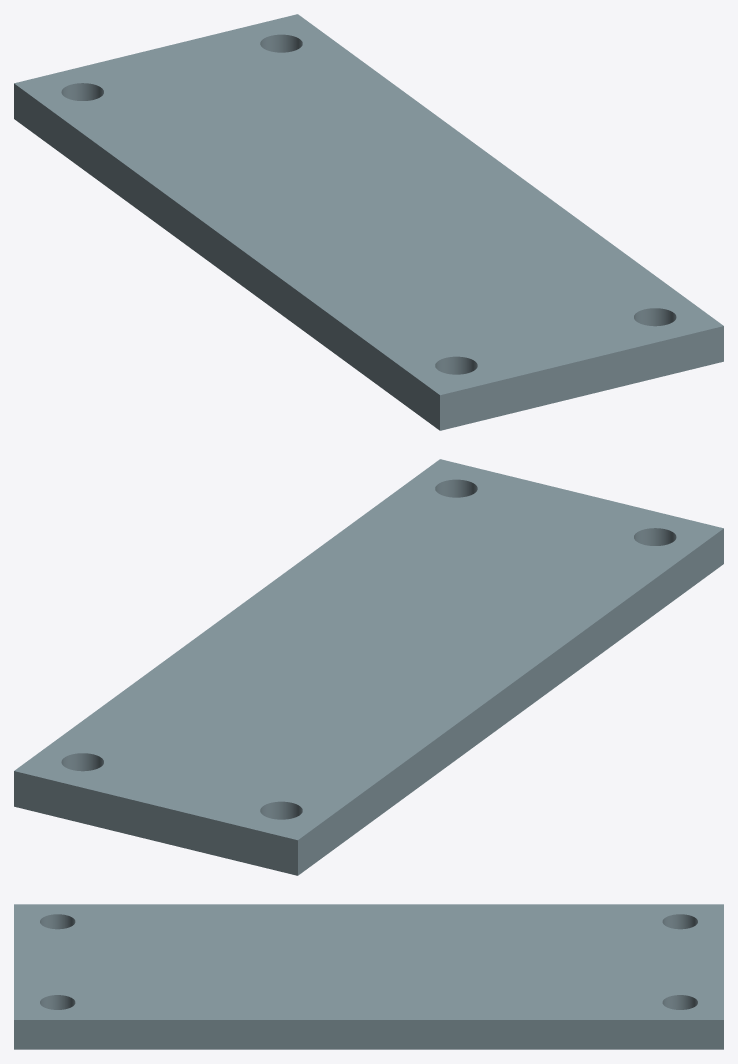
The model's file is inner_backing_C02_R01.glb.
The picture shows the model from 3 angles, top to bottom: view 1: azimuth 30°, elevation 25°; view 2: azimuth 150°, elevation 25°; view 3: azimuth 270°, elevation 25°; orthographic projection. The views are drawn at different scales.
Visible parts, largest first — view 1: inner_backing_C02_R01; view 2: inner_backing_C02_R01; view 3: inner_backing_C02_R01.
Boxes of the visible parts, x1,y1,x2,y2 form: inner_backing_C02_R01: (14, 14, 723, 430); inner_backing_C02_R01: (14, 459, 723, 875); inner_backing_C02_R01: (14, 904, 723, 1049).
Size of the model in its own units: 0.1 by 0.012 by 0.26.
